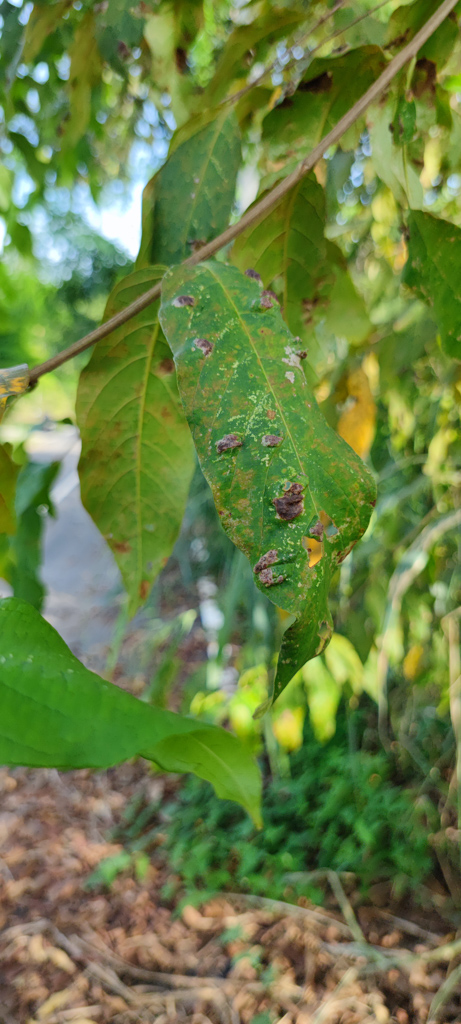Canker: (306, 430, 379, 523), (105, 528, 181, 616), (82, 405, 134, 489), (181, 373, 257, 430), (222, 466, 262, 539), (261, 364, 296, 396), (103, 336, 137, 366), (149, 397, 179, 429), (149, 351, 172, 379)
